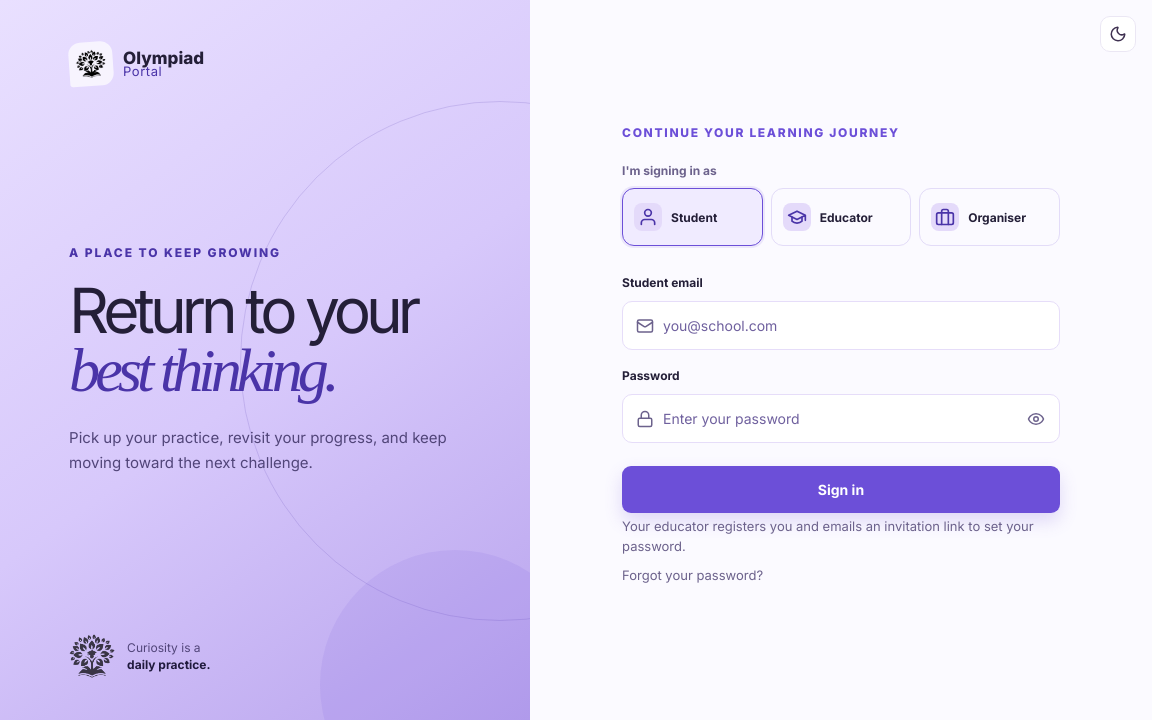
Test case: Login page › Student flow › shows the backend error when the credentials are wrong
The image size is (1152, 720).
In the field labelled "Student email": (841, 326) [623,302,1059,349], type "student@school.com"
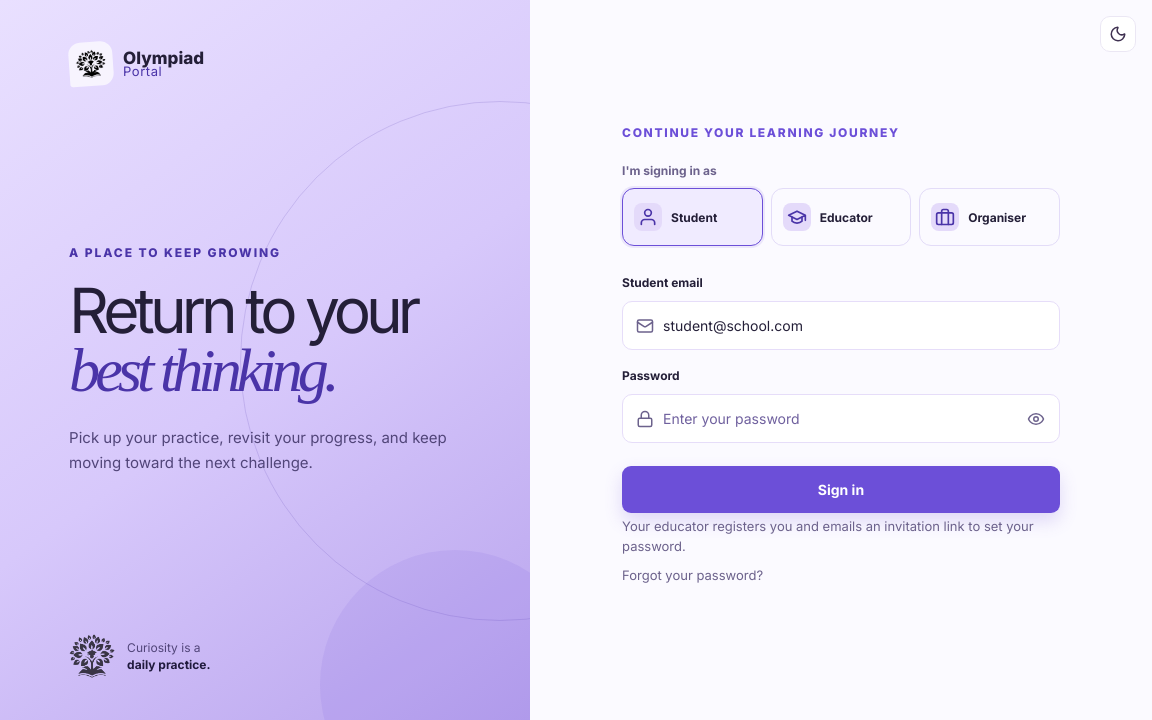
In the password field labelled "Password": (821, 419) [623,395,1019,442], type "wrongpass"
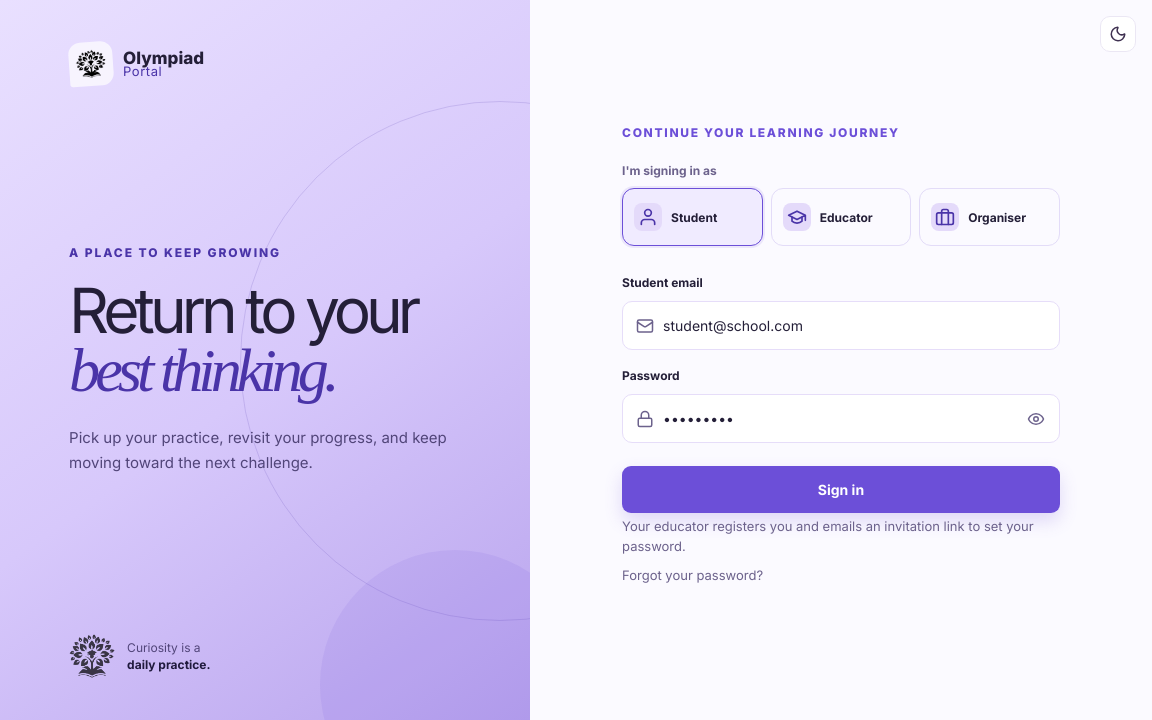
Click the button "Sign in": (841, 490) [622,466,1060,513]
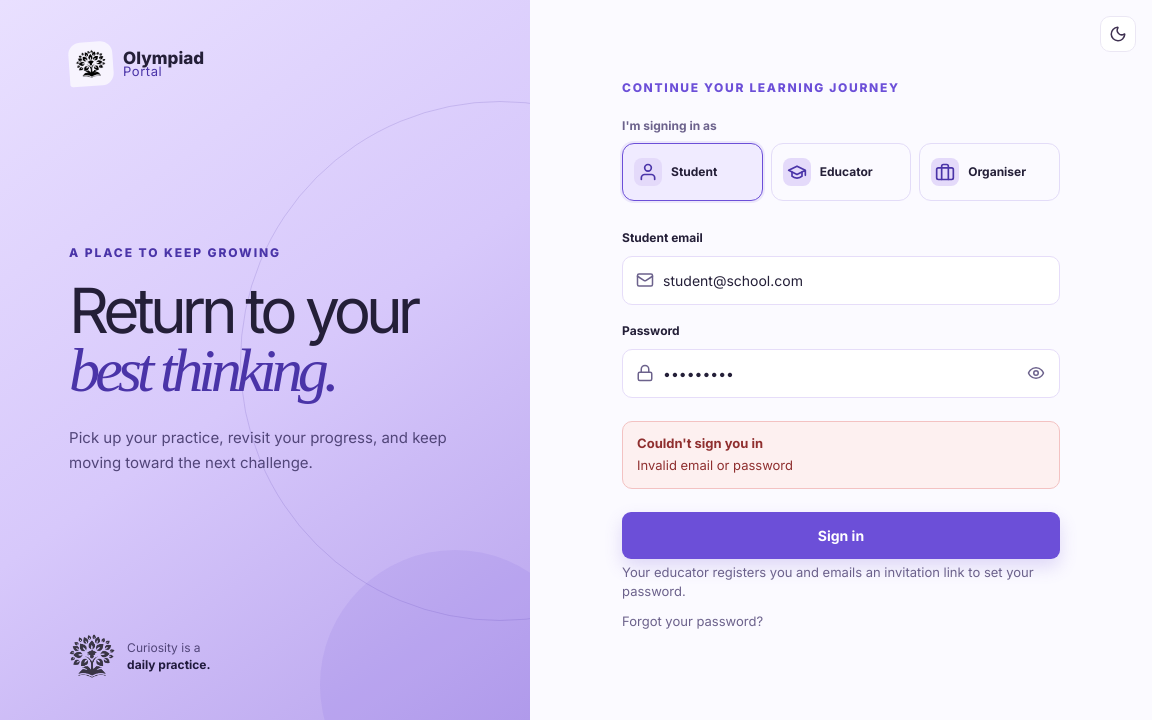
Now the message shows "Invalid email or password", box [637,457,793,473]
